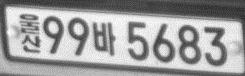3: (203, 25, 227, 67)
5: (127, 20, 148, 61)
6: (152, 23, 174, 62)
8: (178, 24, 201, 65)
9: (41, 14, 64, 54), (67, 16, 90, 56)
바: (93, 22, 116, 56)
울산_V: (19, 13, 41, 53)
